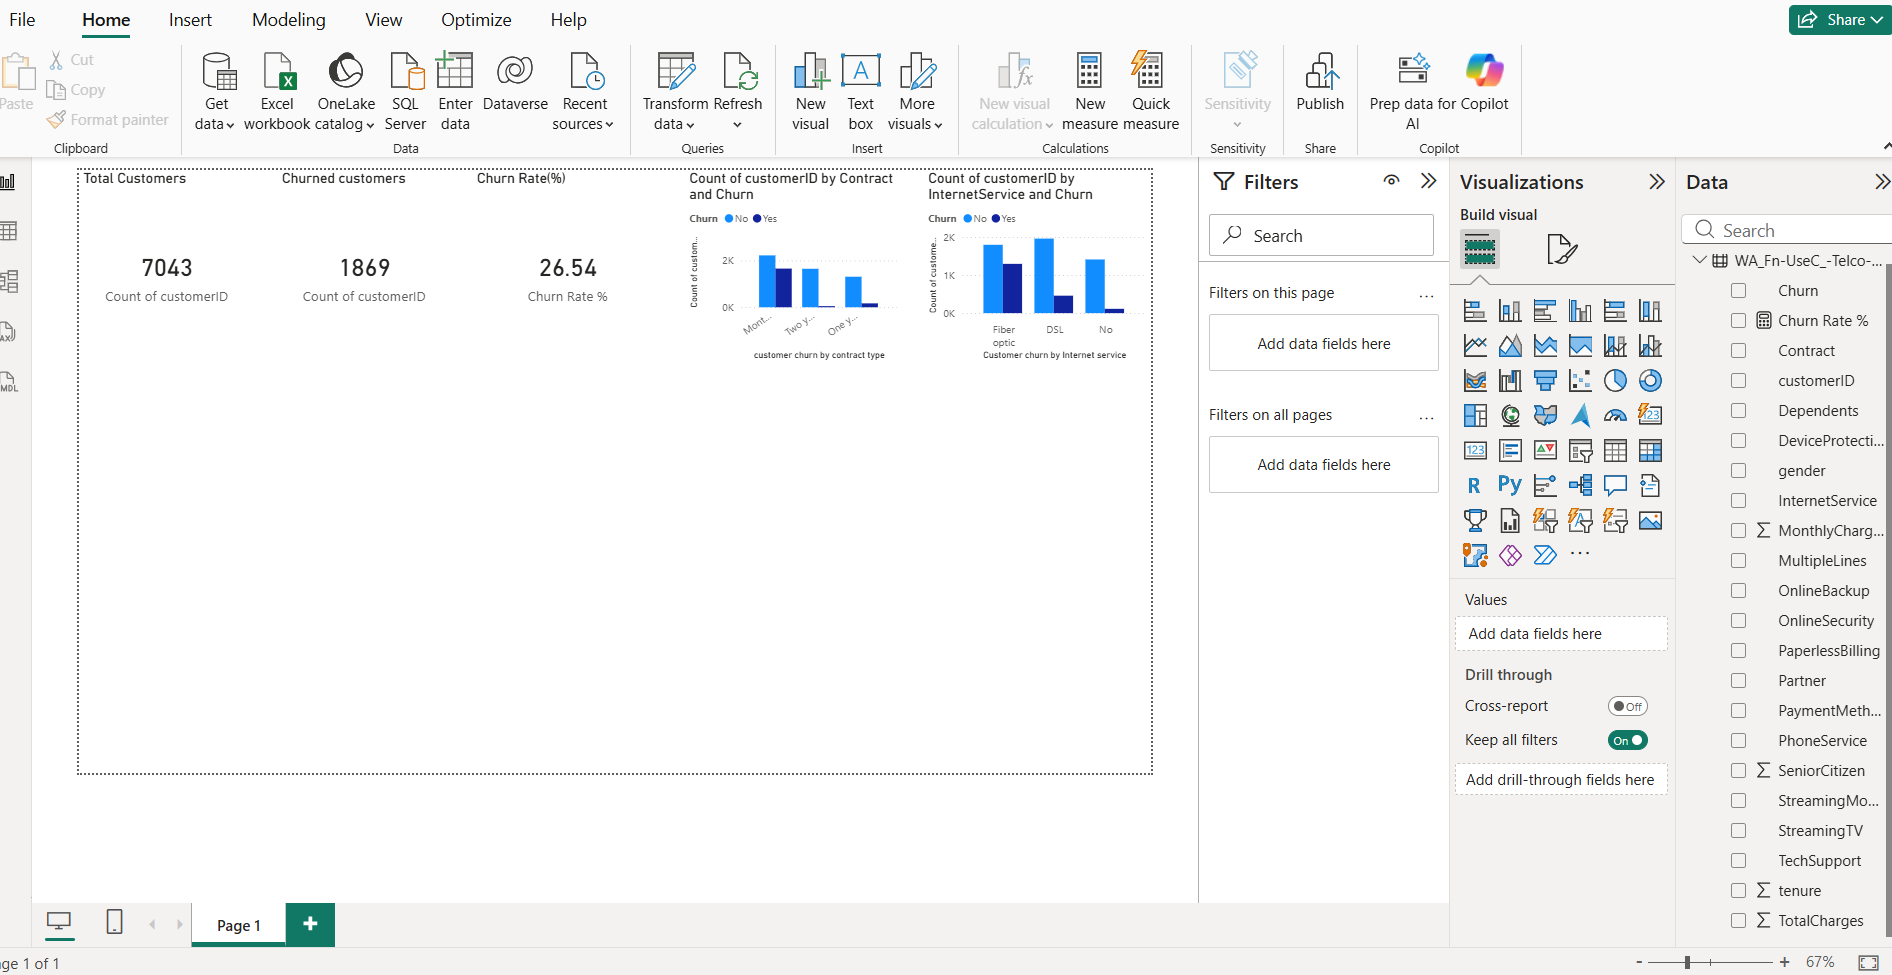

The dashboard page shown, as its layout file describes it:
{"tool":"powerbi","page":{"name":"Page 1","canvas":[1280,720],"ordinal":0},"visuals":[{"type":"card","title":"Total Customers","fields":{"Values":["CountNonNull(WA_Fn-UseC_-Telco-Customer-Churn.customerID)"]},"box":[0,0,210.1,231.9],"z":0},{"type":"card","title":"Churned customers","fields":{"Values":["CountNonNull(WA_Fn-UseC_-Telco-Customer-Churn.customerID)"]},"box":[236.6,0,207.2,231.9],"z":1000},{"type":"card","title":"Churn Rate(%)","fields":{"Values":["WA_Fn-UseC_-Telco-Customer-Churn.Churn Rate %"]},"box":[470.3,0,227.5,231.9],"z":2000},{"type":"clusteredColumnChart","fields":{"Category":["WA_Fn-UseC_-Telco-Customer-Churn.Contract"],"Y":["CountNonNull(WA_Fn-UseC_-Telco-Customer-Churn.customerID)"],"Series":["WA_Fn-UseC_-Telco-Customer-Churn.Churn"]},"box":[724.3,0,258,231.9],"z":3000},{"type":"clusteredColumnChart","fields":{"Category":["WA_Fn-UseC_-Telco-Customer-Churn.InternetService"],"Y":["CountNonNull(WA_Fn-UseC_-Telco-Customer-Churn.customerID)"],"Series":["WA_Fn-UseC_-Telco-Customer-Churn.Churn"]},"box":[1008.7,0,271,231.9],"z":4000}]}

Visuals, with their boxes on the page's 1280x720 design canvas (x1, y1, x2, y2). These are canvas units, not pixel positions in the 1892x975 screenshot, which may show the page scaled, cropped or inside an application window:
"Total Customers" card: [left=0, top=0, right=210, bottom=232]
"Churned customers" card: [left=237, top=0, right=444, bottom=232]
"Churn Rate(%)" card: [left=470, top=0, right=698, bottom=232]
clusteredColumnChart - WA_Fn-UseC_-Telco-Customer-Churn.Contract x CountNonNull(WA_Fn-UseC_-Telco-Customer-Churn.customerID): [left=724, top=0, right=982, bottom=232]
clusteredColumnChart - WA_Fn-UseC_-Telco-Customer-Churn.InternetService x CountNonNull(WA_Fn-UseC_-Telco-Customer-Churn.customerID): [left=1009, top=0, right=1280, bottom=232]
